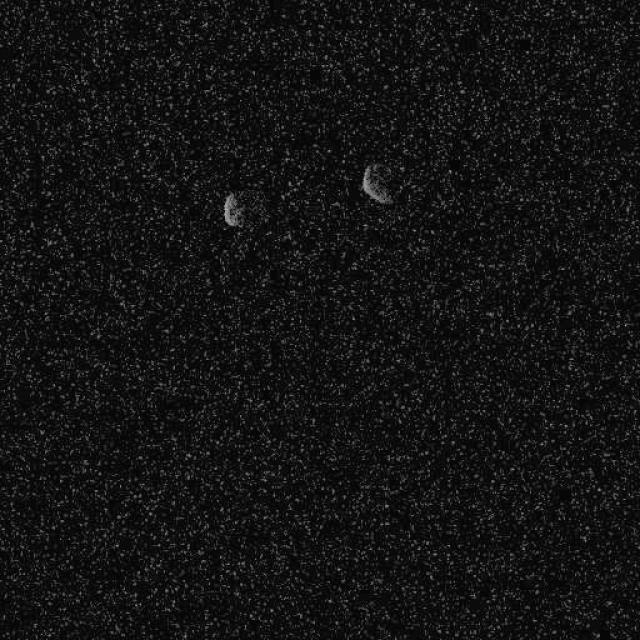D2: (360, 161, 400, 205), (221, 192, 245, 228)
